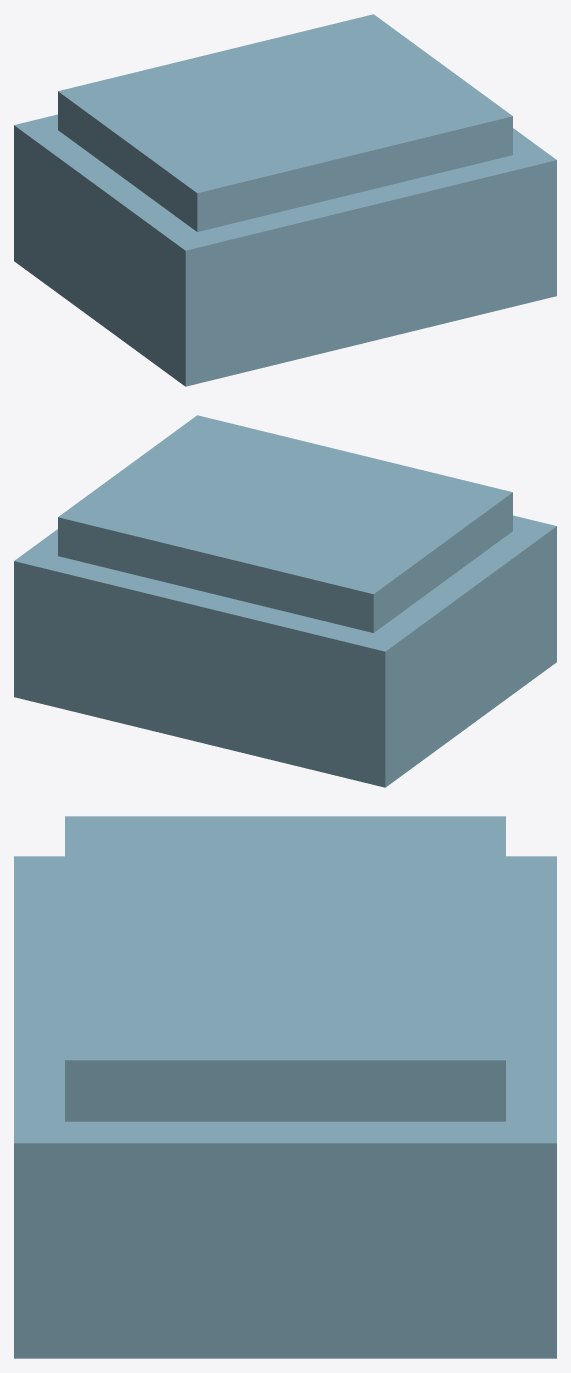
File: product_chilled_premium.glb
3 renders of one model, top to bottom at view 1: azimuth 30°, elevation 25°; view 2: azimuth 150°, elevation 25°; view 3: azimuth 270°, elevation 25°, orthographic. The views are drawn at different scales.
Parts seen in each view (by area): view 1: product.chilled_premium; view 2: product.chilled_premium; view 3: product.chilled_premium.
Boxes of the visible parts, x1,y1,x2,y2 form: product.chilled_premium: (14, 14, 556, 386); product.chilled_premium: (14, 415, 556, 787); product.chilled_premium: (14, 816, 556, 1358).
Size of the model in its own units: 0.24 by 0.108 by 0.192.
